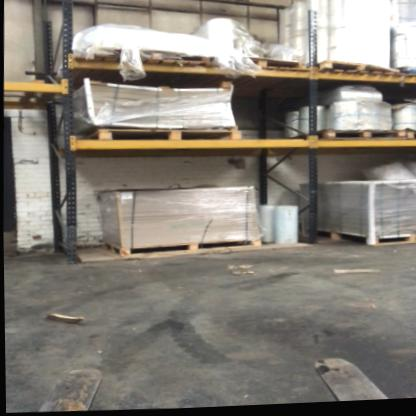vertical_damage: (59, 212, 81, 234)
